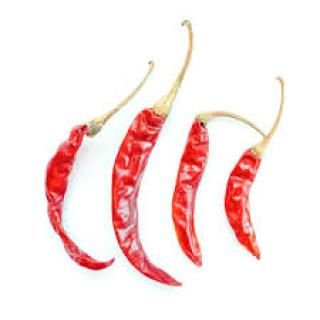Cabai Merah: (223, 84, 289, 263), (44, 122, 116, 274), (115, 112, 171, 282), (169, 116, 210, 268)
